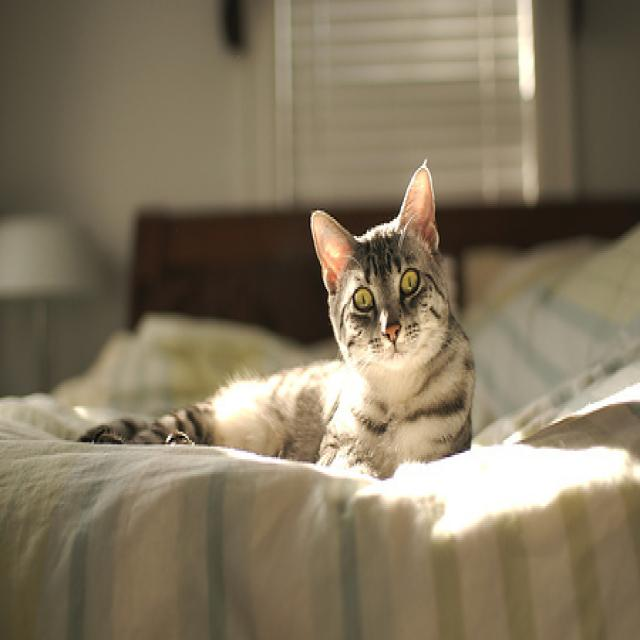Egyptian Mau: (69, 161, 482, 478)
